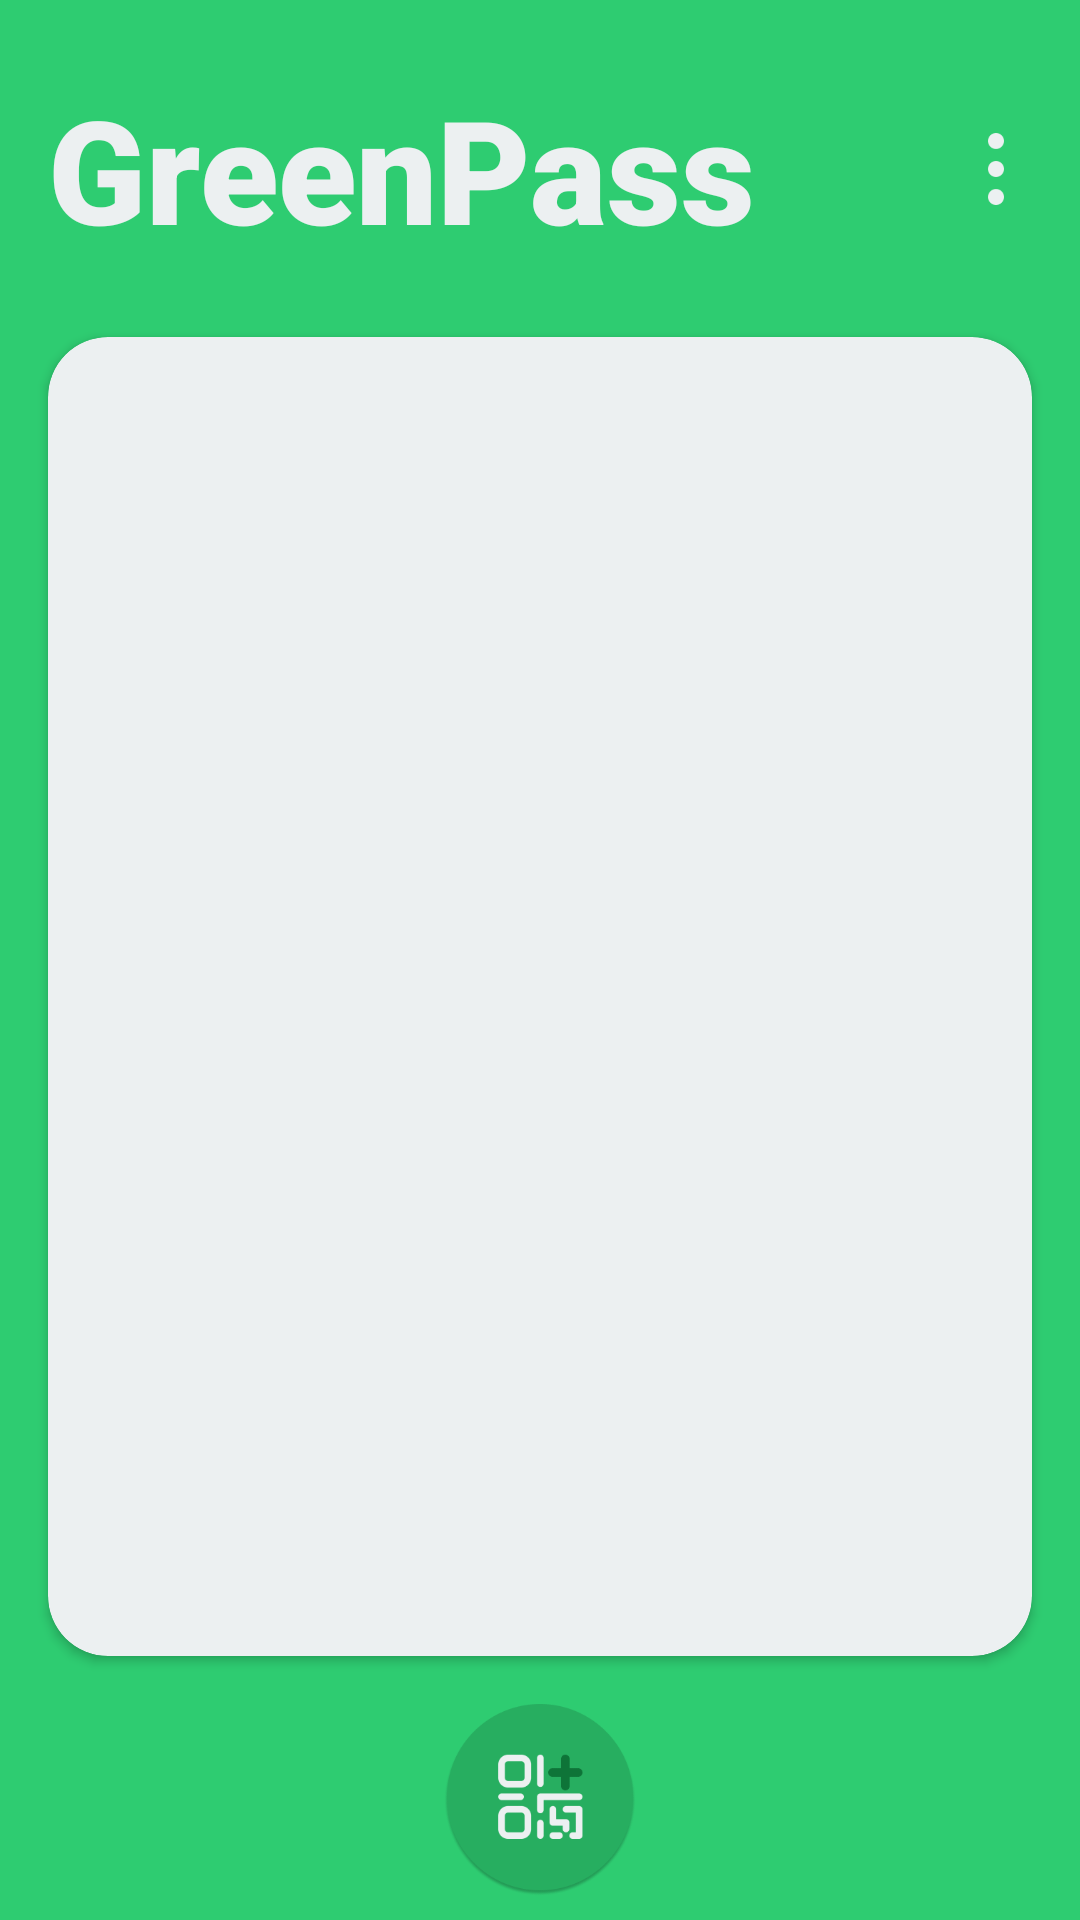

Point at icon controls on the screen. Image size 1080*1920, points as point (x, y).
add qrcode: point (540, 1798)
